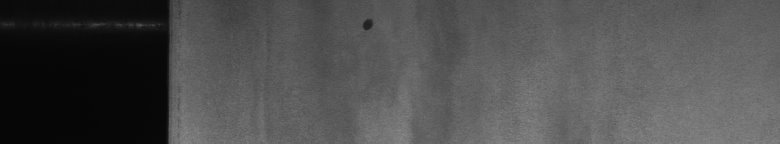fi: (357, 12, 380, 36)
